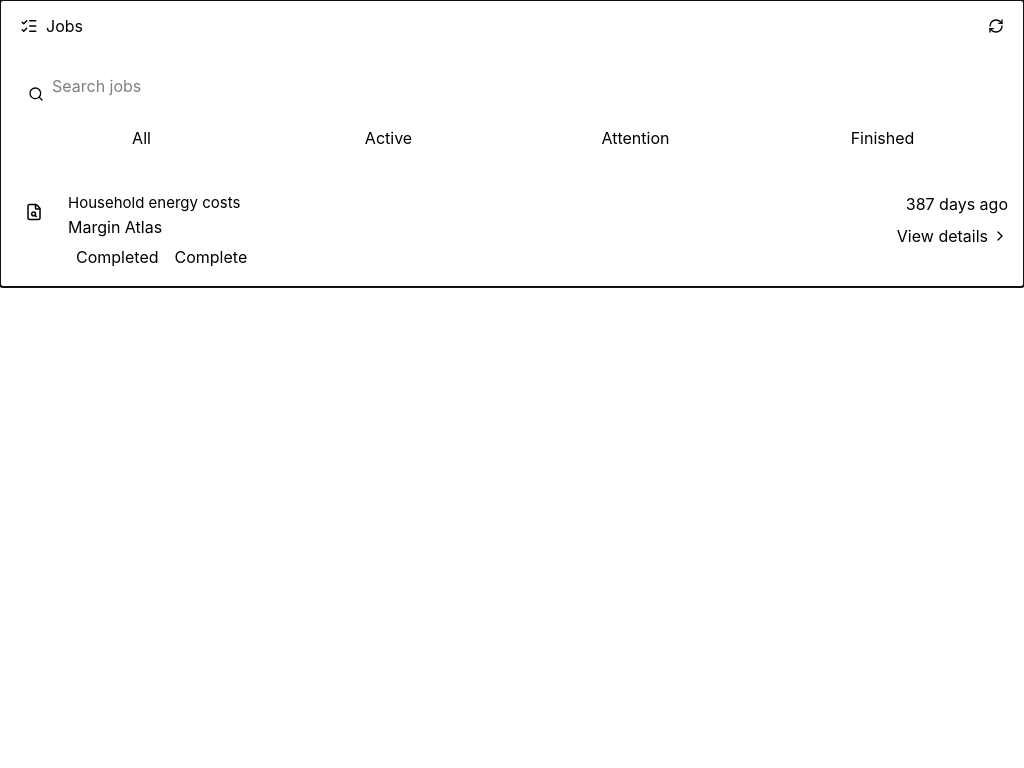
Scenario: Jobs & QA discovery visibility › refreshes discovery status while Jobs stays open
This screenshot has width=1024, height=768.
Check: the text "Completed" is shown, box [76,246,158,266]
Step 1. Click the button "Household energy costs" → point(154, 202), box [0,176,1023,286]
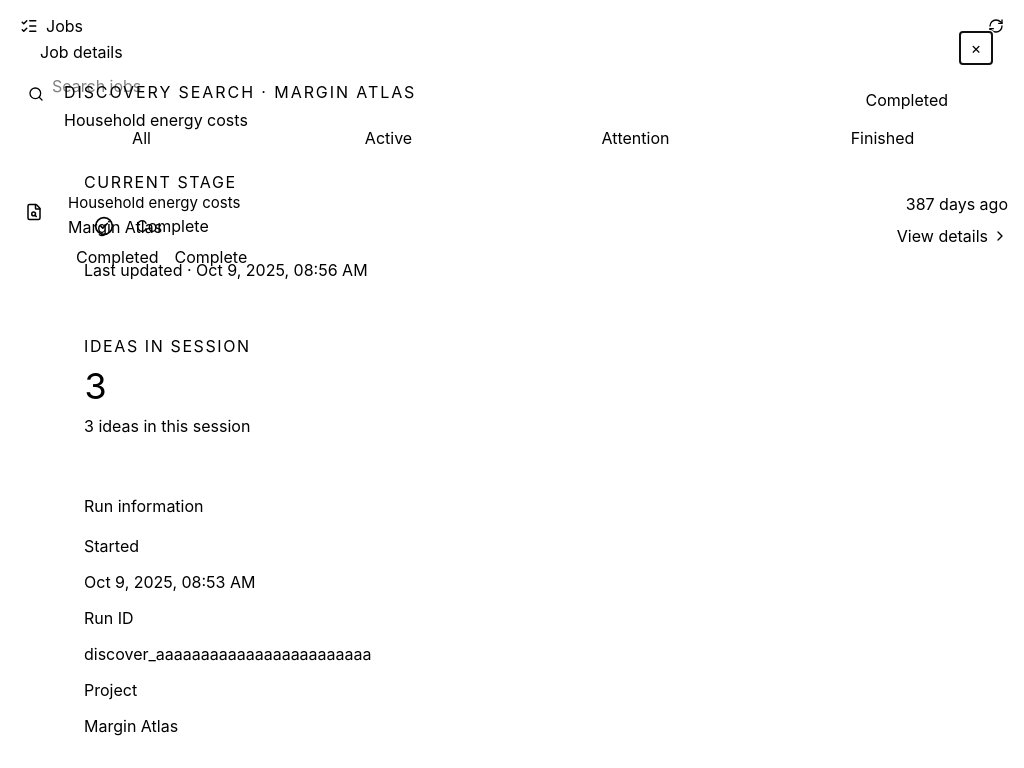
Check: the text "3 ideas in this session" is shown, box [84,416,250,436]
